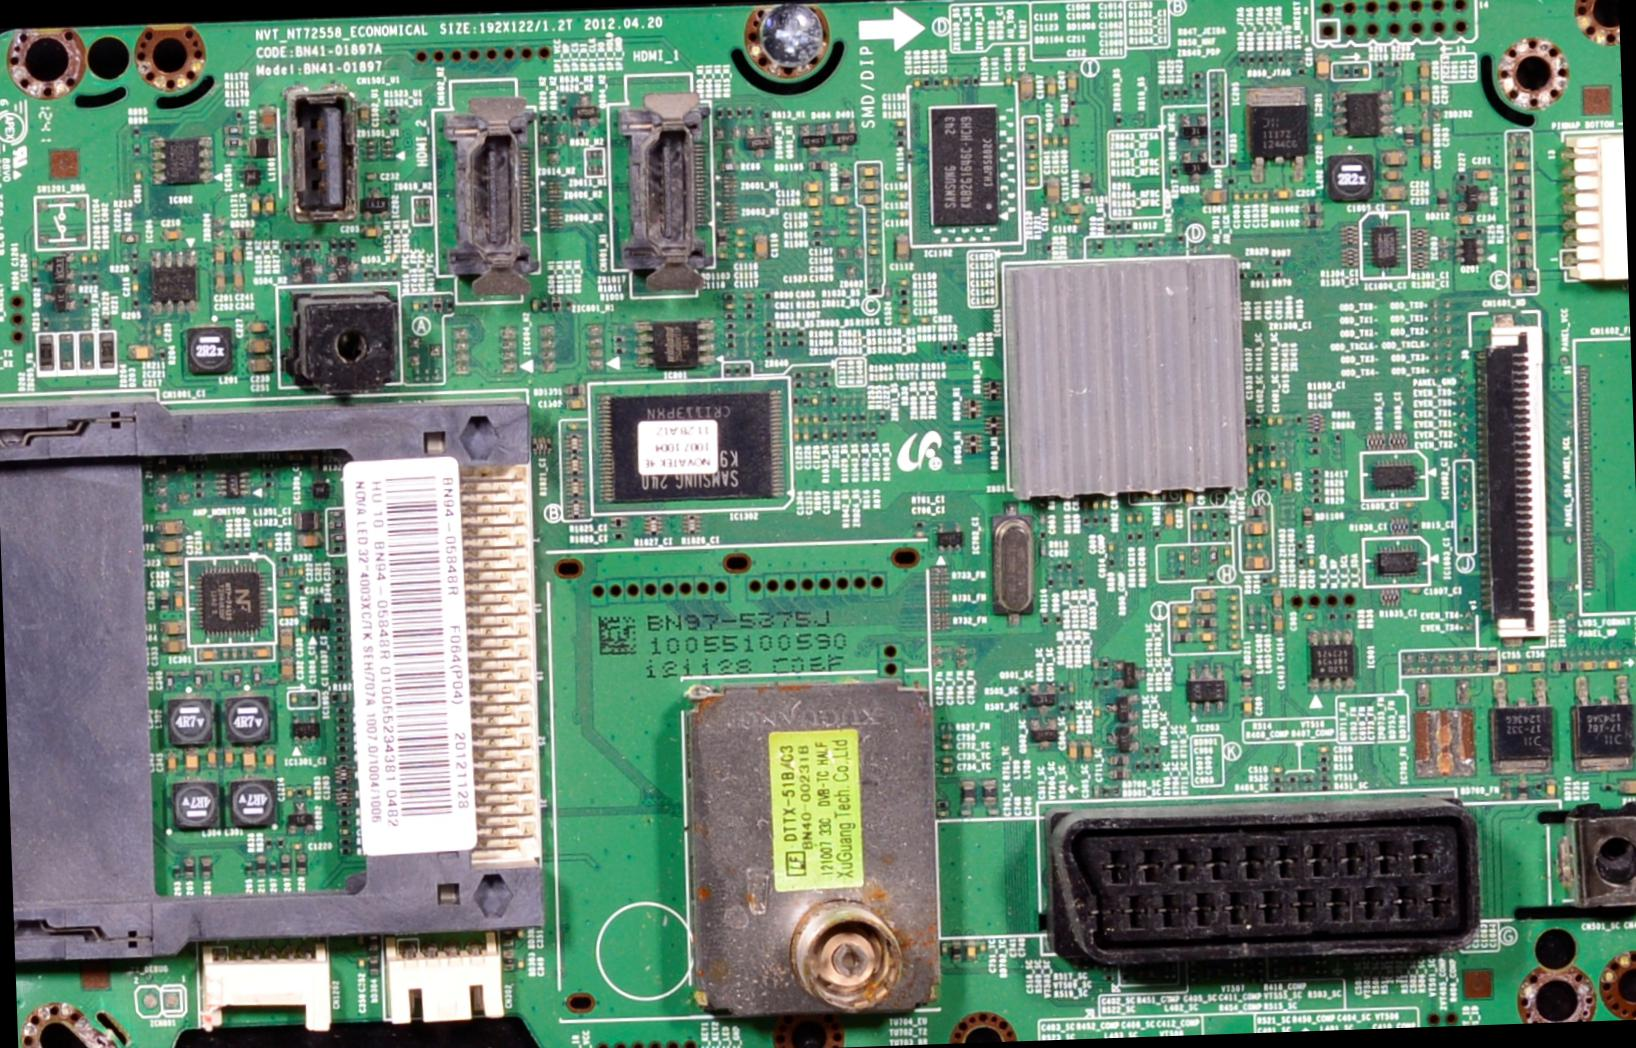Capacitor Jumper: (937, 726, 1002, 780), (1015, 63, 1090, 104), (1169, 584, 1241, 622), (928, 632, 981, 677), (1417, 56, 1434, 176), (953, 781, 1011, 817), (1240, 517, 1274, 573), (1376, 148, 1407, 205), (1201, 186, 1297, 204), (1066, 713, 1099, 763), (216, 237, 246, 291), (855, 161, 884, 209), (863, 205, 887, 260), (1500, 657, 1549, 682), (1243, 454, 1299, 475), (891, 229, 915, 272), (1578, 655, 1625, 676), (124, 336, 161, 364), (285, 806, 317, 837), (800, 176, 828, 211), (1446, 211, 1495, 229), (1266, 589, 1284, 637), (729, 227, 751, 263), (1023, 151, 1043, 190), (1091, 776, 1122, 800), (1223, 615, 1244, 651), (749, 230, 773, 260), (293, 506, 323, 529), (1612, 773, 1635, 804), (181, 743, 202, 777), (1122, 506, 1147, 533), (351, 100, 374, 128), (1107, 751, 1130, 779), (1278, 469, 1301, 497), (1536, 775, 1561, 800), (1042, 131, 1072, 151), (1062, 199, 1087, 223), (118, 274, 143, 298), (560, 391, 587, 414), (155, 517, 186, 537), (1023, 112, 1045, 139), (892, 210, 917, 232), (1312, 49, 1328, 82), (1189, 517, 1211, 541), (1398, 85, 1418, 111), (845, 205, 861, 238), (248, 643, 277, 661), (1506, 151, 1531, 172), (238, 745, 258, 771), (159, 620, 187, 637), (1508, 227, 1535, 244), (1045, 172, 1060, 201), (157, 539, 185, 556), (1265, 758, 1293, 775), (243, 194, 262, 218), (219, 745, 236, 771), (1092, 496, 1115, 515), (280, 652, 295, 682), (1241, 694, 1259, 718), (162, 639, 188, 655), (275, 603, 298, 621), (296, 531, 320, 547), (1161, 503, 1175, 533), (795, 413, 820, 428), (792, 424, 811, 445), (278, 581, 298, 600), (1197, 632, 1217, 651), (359, 222, 380, 240), (1172, 546, 1190, 568), (261, 748, 277, 771), (198, 647, 219, 664), (1510, 271, 1525, 293), (163, 666, 178, 690), (163, 227, 185, 242), (1269, 411, 1287, 429), (810, 209, 826, 228), (831, 192, 851, 207), (173, 589, 186, 613), (162, 554, 184, 569), (265, 192, 275, 218), (739, 287, 758, 302), (898, 306, 912, 325), (1222, 544, 1237, 563), (207, 745, 218, 770), (166, 748, 176, 773), (1473, 167, 1493, 180), (527, 293, 539, 314), (1303, 548, 1315, 568), (410, 294, 421, 315), (285, 782, 296, 802), (719, 300, 742, 310), (27, 258, 39, 275), (281, 633, 293, 651), (822, 426, 832, 445), (1314, 740, 1331, 752), (917, 314, 934, 324), (266, 537, 275, 553), (1359, 60, 1369, 76), (203, 538, 211, 556), (899, 277, 911, 289), (1104, 538, 1114, 552), (305, 785, 314, 800), (892, 174, 910, 181), (896, 191, 907, 201), (1049, 203, 1056, 219), (277, 563, 285, 577), (290, 564, 297, 581), (1177, 620, 1190, 628), (298, 565, 304, 581), (813, 392, 818, 411), (1246, 442, 1252, 457)
IC: (1232, 75, 1321, 197), (1482, 677, 1561, 770), (621, 315, 720, 378), (1299, 618, 1377, 695), (1361, 533, 1446, 590), (1417, 702, 1481, 779), (1324, 87, 1401, 144), (1361, 446, 1427, 503), (190, 466, 273, 506), (286, 711, 326, 756), (568, 92, 605, 135), (932, 523, 968, 562), (358, 178, 391, 216), (306, 602, 333, 641), (241, 161, 264, 192)
Resistor: (1268, 773, 1336, 792), (1129, 743, 1169, 773), (1101, 217, 1134, 236), (1124, 529, 1163, 545), (1080, 511, 1113, 529), (1189, 68, 1207, 98), (1134, 236, 1157, 258), (1105, 551, 1117, 576), (1316, 754, 1332, 773)
Resistor Jumper: (1361, 211, 1407, 275), (279, 230, 360, 258), (1241, 252, 1294, 284), (1046, 557, 1091, 590), (1508, 170, 1532, 229), (828, 426, 884, 444), (1305, 466, 1328, 508), (839, 408, 888, 427), (719, 309, 740, 352), (1036, 606, 1074, 630), (1157, 79, 1192, 104), (779, 324, 807, 349), (1510, 242, 1536, 268), (1396, 120, 1419, 150), (762, 317, 776, 361), (1036, 517, 1051, 560), (1239, 659, 1257, 693), (425, 296, 454, 315), (541, 297, 570, 316), (1333, 424, 1347, 461), (1431, 188, 1451, 213), (1078, 170, 1097, 197), (793, 367, 813, 390), (249, 663, 266, 689), (539, 111, 566, 126), (1306, 435, 1325, 457), (1553, 656, 1574, 675), (198, 856, 213, 882), (1110, 105, 1128, 128), (1061, 110, 1084, 128), (562, 378, 585, 395), (229, 664, 243, 692), (1253, 475, 1275, 492), (166, 862, 184, 883), (1258, 441, 1284, 455), (1294, 540, 1308, 566), (1172, 630, 1196, 645), (792, 391, 811, 410), (812, 229, 829, 250), (714, 225, 730, 248), (817, 409, 835, 428), (296, 851, 310, 875), (1518, 779, 1531, 804), (279, 851, 292, 876), (182, 857, 196, 882), (824, 391, 842, 409), (818, 371, 834, 391), (1066, 695, 1086, 711), (157, 588, 169, 613), (256, 851, 268, 876), (99, 308, 112, 330), (191, 668, 204, 690), (130, 167, 145, 186), (1597, 780, 1612, 799), (743, 300, 757, 321), (1195, 618, 1219, 630), (897, 287, 911, 306), (238, 533, 253, 552), (1246, 413, 1264, 427), (1022, 141, 1041, 154), (31, 274, 43, 293), (1091, 238, 1105, 254), (80, 250, 89, 273), (297, 781, 306, 804), (719, 289, 737, 300), (1293, 410, 1305, 428), (255, 537, 267, 554), (1451, 167, 1463, 182), (761, 290, 774, 303), (131, 299, 141, 316), (41, 314, 49, 331), (244, 860, 253, 878), (130, 246, 140, 261), (223, 535, 230, 554), (233, 537, 240, 552), (130, 262, 140, 273), (812, 428, 818, 444)
iC: (588, 365, 800, 516), (903, 77, 1025, 248), (1568, 674, 1635, 774), (1179, 664, 1235, 723), (1091, 645, 1142, 694), (1022, 715, 1068, 761), (1021, 674, 1062, 718), (1107, 717, 1145, 752), (1099, 689, 1141, 718)
